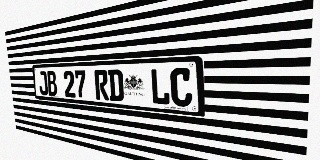2: (63, 70, 76, 98)
7: (74, 70, 87, 99)
B: (46, 71, 58, 96)
C: (170, 68, 192, 107)
D: (108, 69, 124, 102)
J: (38, 71, 48, 95)
L: (150, 68, 170, 106)
R: (94, 70, 109, 100)
